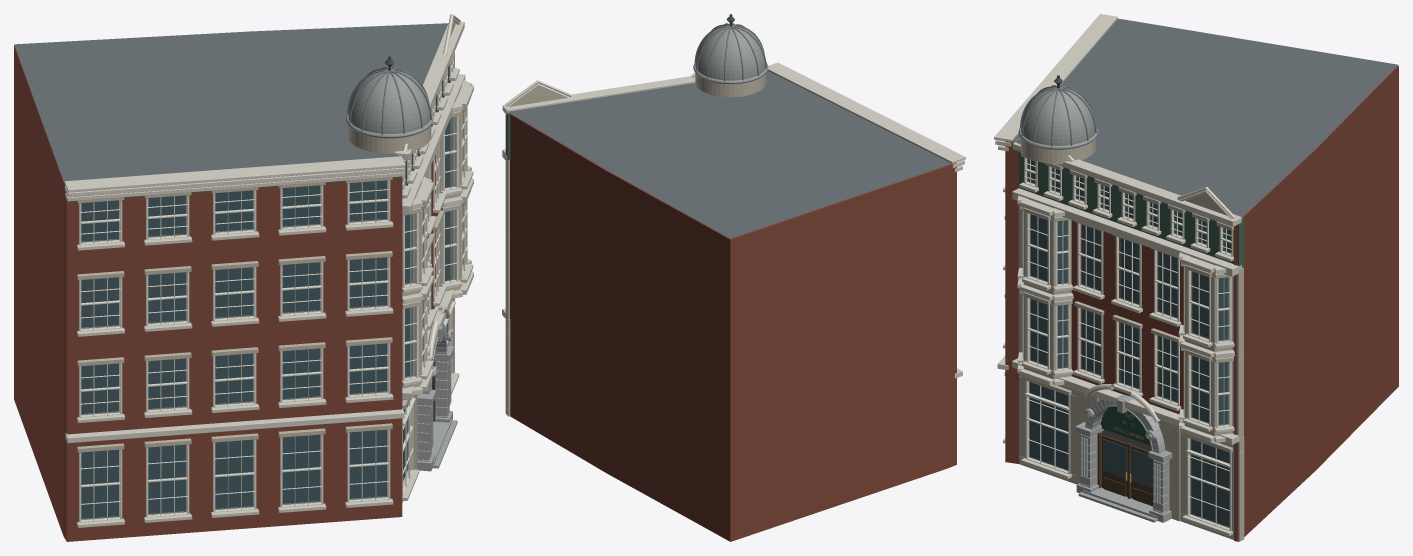
File: kgs-exterior-fcfbf3a15890.glb
3 renders of one model, left to right at view 1: azimuth 30°, elevation 25°; view 2: azimuth 150°, elevation 25°; view 3: azimuth 270°, elevation 25°, orthographic. The views are drawn at different scales.
Visible parts, largest first — view 1: KGS.001; view 2: KGS.001; view 3: KGS.001.
Part boxes in pixels (x1,y1,x2,y2): KGS.001: [14, 14, 473, 541]; KGS.001: [502, 14, 965, 541]; KGS.001: [994, 14, 1398, 541].
Bounding box in the file's own units: 21.13 × 18.66 × 17.38.
